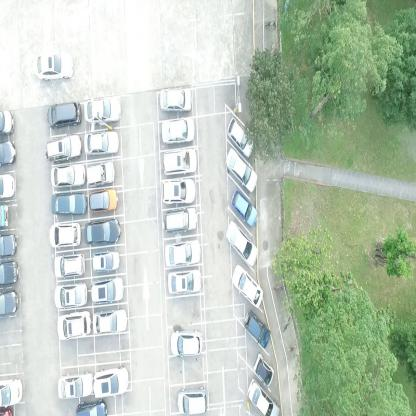car: (224, 219, 258, 269), (224, 147, 258, 195), (230, 264, 263, 309), (33, 50, 75, 82), (246, 377, 280, 415), (228, 187, 258, 229), (45, 132, 82, 166), (242, 306, 271, 349), (94, 365, 130, 399), (84, 216, 121, 249), (226, 116, 254, 158), (83, 96, 122, 126), (56, 308, 92, 340), (46, 99, 81, 131), (57, 371, 94, 401), (162, 205, 198, 235), (162, 146, 198, 176), (82, 130, 120, 158), (91, 274, 124, 306), (54, 280, 87, 312), (164, 240, 201, 268), (48, 221, 82, 250), (160, 117, 196, 144), (160, 178, 197, 204), (167, 269, 202, 296), (51, 162, 86, 189), (92, 310, 128, 336), (88, 185, 119, 215), (170, 329, 202, 357), (159, 86, 192, 113), (51, 191, 86, 216), (176, 388, 209, 414), (52, 255, 86, 280), (252, 351, 274, 387), (0, 377, 23, 408), (91, 250, 120, 273), (86, 163, 116, 185), (75, 398, 108, 416), (0, 288, 19, 318), (0, 259, 19, 286), (0, 138, 16, 168), (0, 108, 16, 136), (0, 232, 17, 258), (0, 173, 16, 200)
